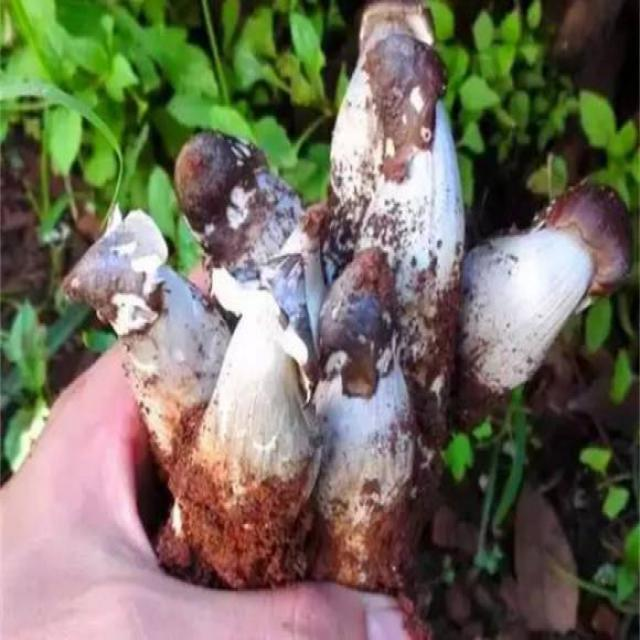Collybia albuminosa: (66, 212, 224, 468), (182, 256, 316, 530), (363, 33, 464, 374), (459, 185, 633, 379), (315, 248, 424, 533), (175, 130, 312, 264)
